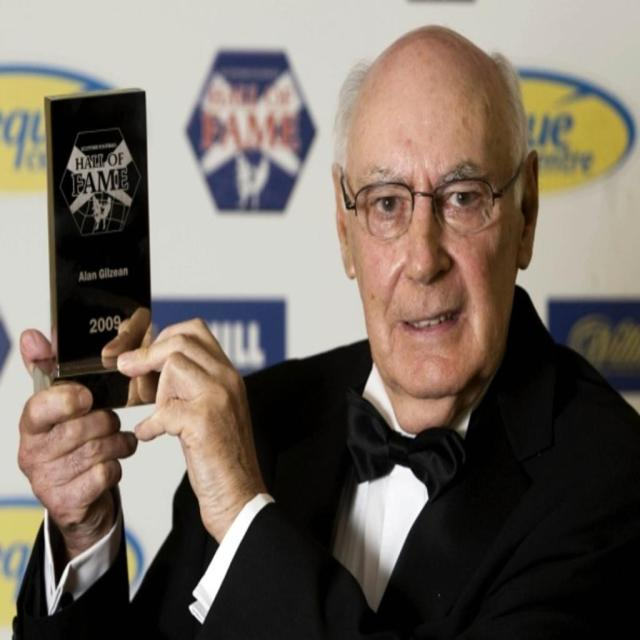Face: (343, 56, 515, 396)
